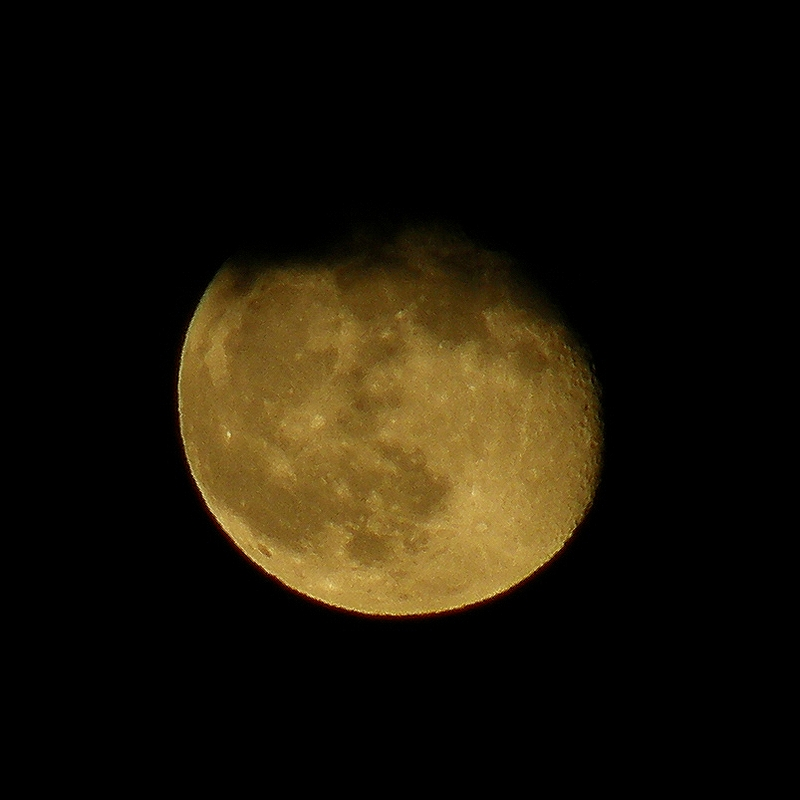crater: (452, 495, 507, 550), (286, 401, 340, 445), (216, 420, 242, 451), (254, 537, 282, 559), (385, 413, 407, 431), (254, 279, 274, 294)
